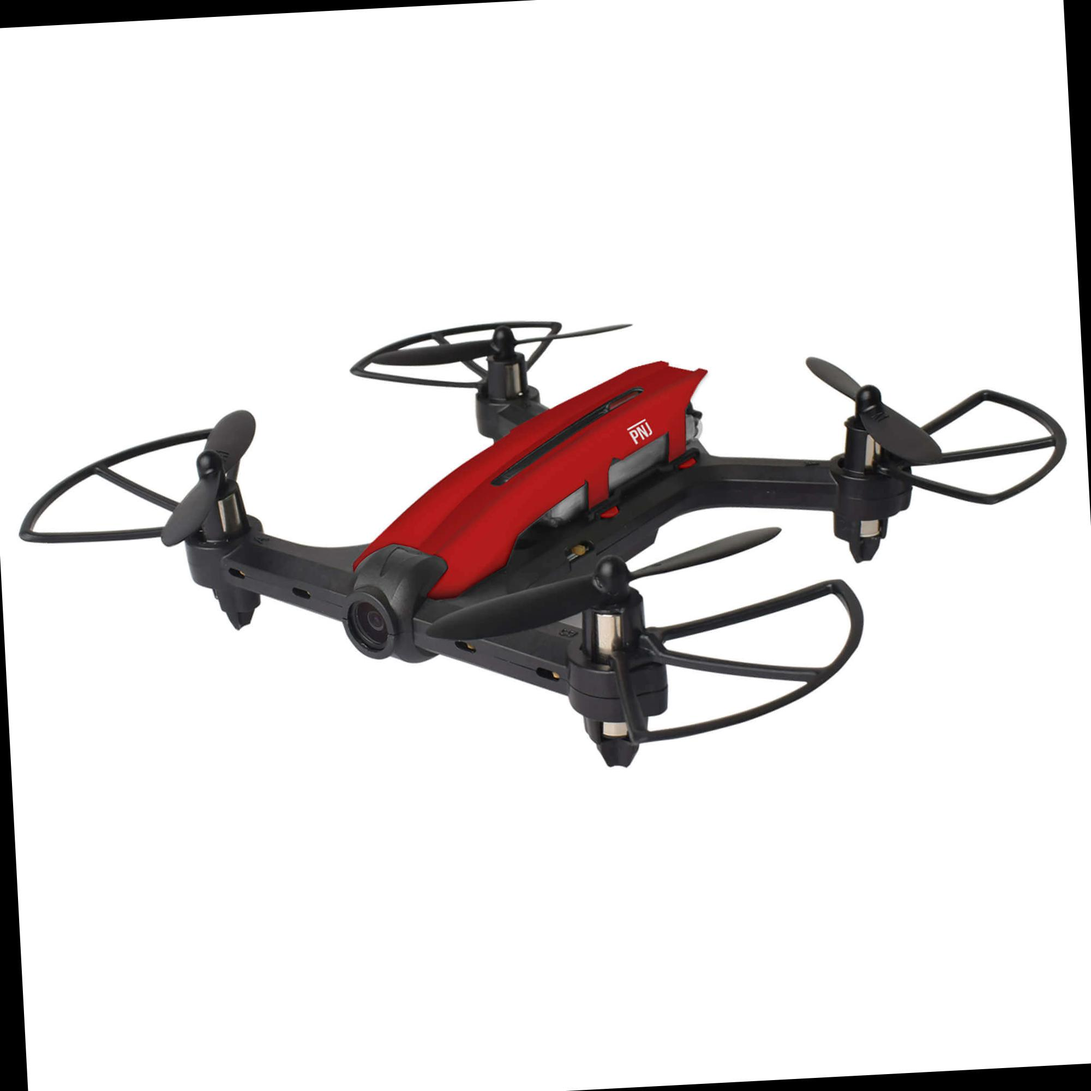drone: (34, 250, 1091, 825)
